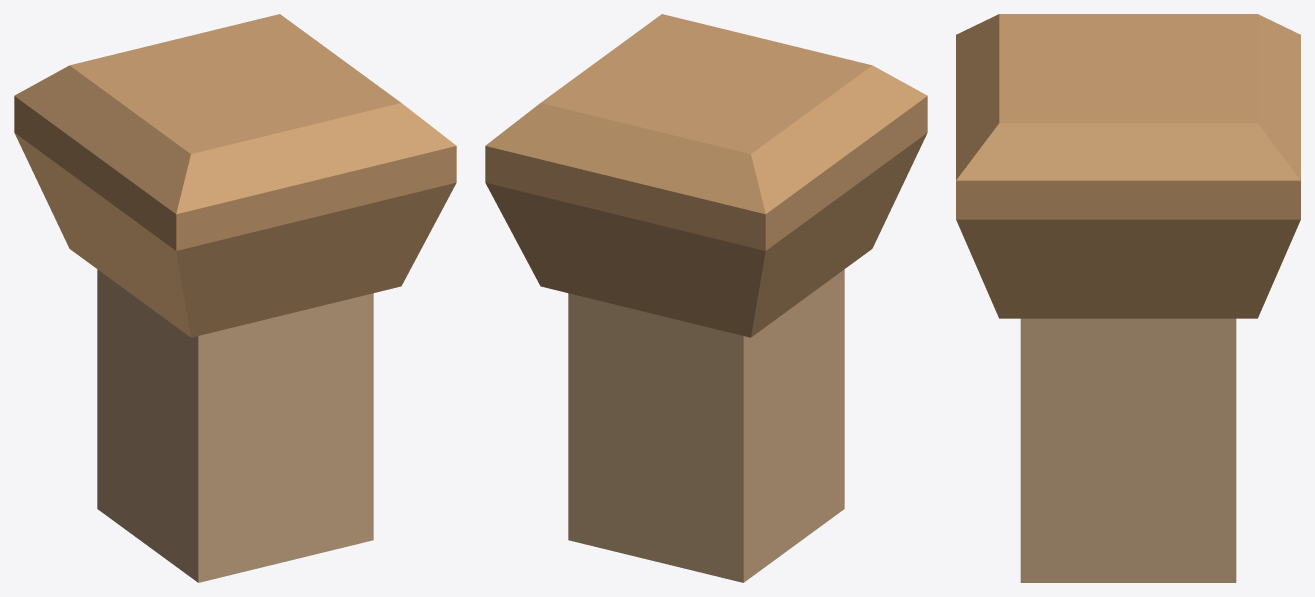
Rendered from Stairs_Newel_Top.fbx.
The picture shows the model from 3 angles, left to right: view 1: azimuth 30°, elevation 25°; view 2: azimuth 150°, elevation 25°; view 3: azimuth 270°, elevation 25°; orthographic projection. The views are drawn at different scales.
Parts seen in each view (by area): view 1: object2, object1; view 2: object2, object1; view 3: object2, object1.
Part boxes in pixels (x1=…): object2: x1=14, y1=14, x2=456, y2=337; object1: x1=97, y1=269, x2=373, y2=582; object2: x1=485, y1=14, x2=927, y2=337; object1: x1=568, y1=269, x2=844, y2=582; object2: x1=956, y1=14, x2=1300, y2=318; object1: x1=1020, y1=318, x2=1236, y2=582.
Bounding box in the file's own units: 0.4 × 0.6 × 0.4.
